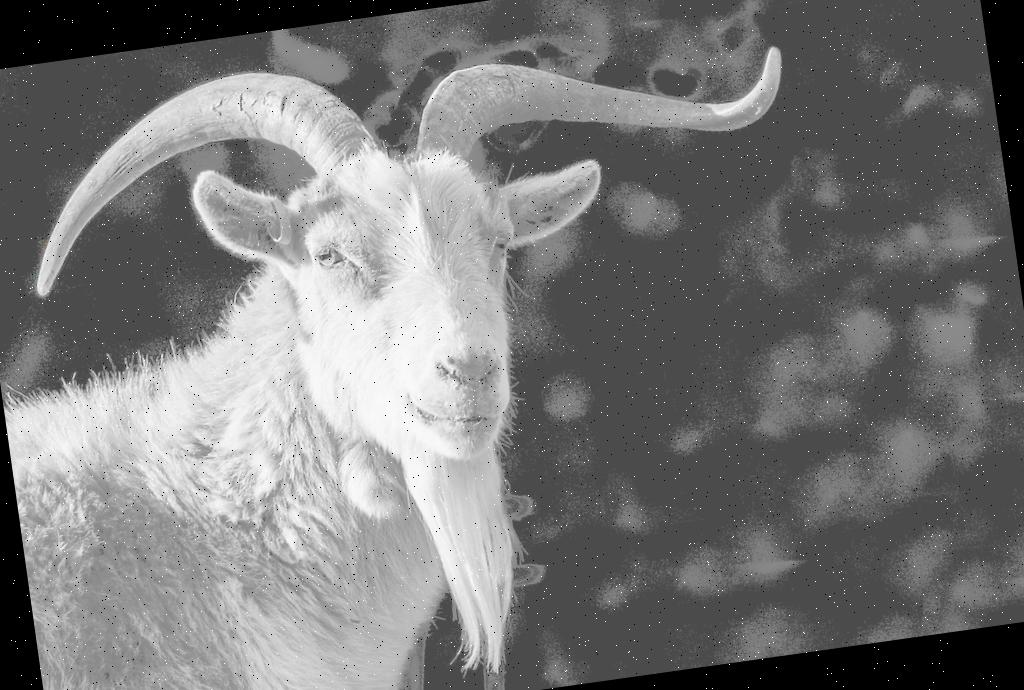Sheep: (0, 0, 851, 690)
